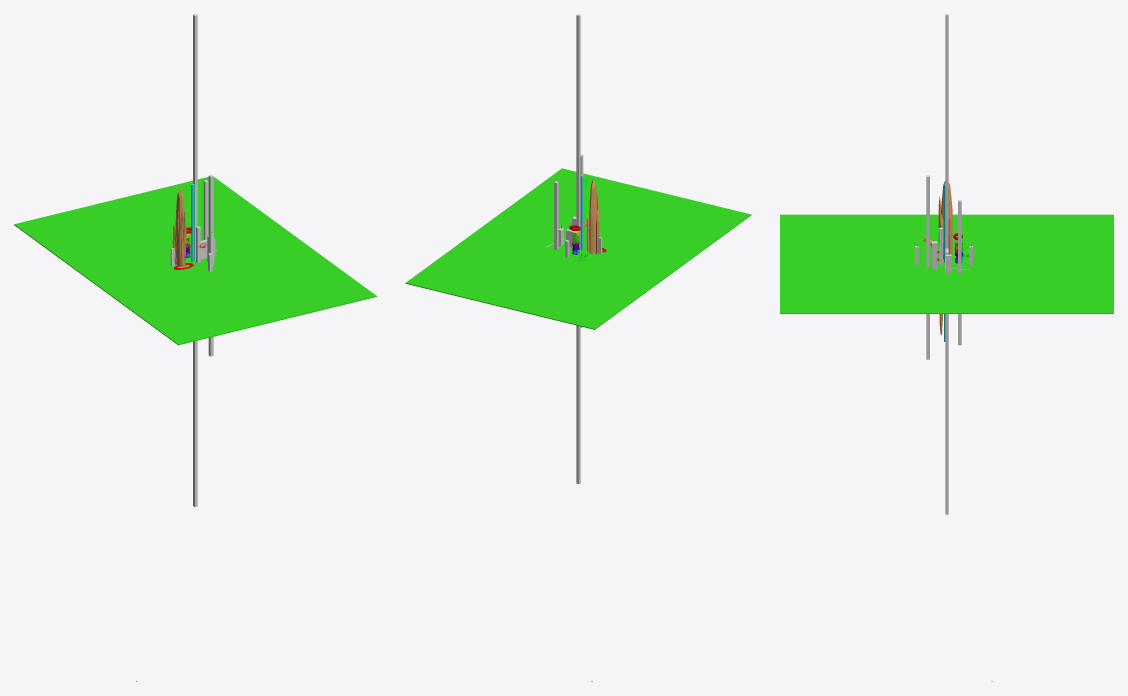
The model's file is Jacksonscity.glb.
3 views of the same model, side by side, from view 1: azimuth 30°, elevation 25°; view 2: azimuth 150°, elevation 25°; view 3: azimuth 270°, elevation 25° (orthographic). The views are drawn at different scales.
Parts seen in each view (by area): view 1: Cube, Cube.038, Suzanne.001, Cube.034; view 2: Cube, Cube.038, Suzanne.001; view 3: Cube, Cube.038, Suzanne.001, Cube.034.
Part boxes in pixels (<box>): Cube: <box>14,177,376,345</box>; Cube.038: <box>193,14,197,506</box>; Suzanne.001: <box>172,187,186,266</box>; Cube.034: <box>208,175,213,356</box>; Cube: <box>405,168,751,329</box>; Cube.038: <box>576,14,580,483</box>; Suzanne.001: <box>586,179,599,254</box>; Cube: <box>780,214,1113,313</box>; Cube.038: <box>945,14,948,514</box>; Suzanne.001: <box>938,181,952,334</box>; Cube.034: <box>926,175,929,359</box>.
Bounding box in the file's own units: 451 × 1462 × 645.
